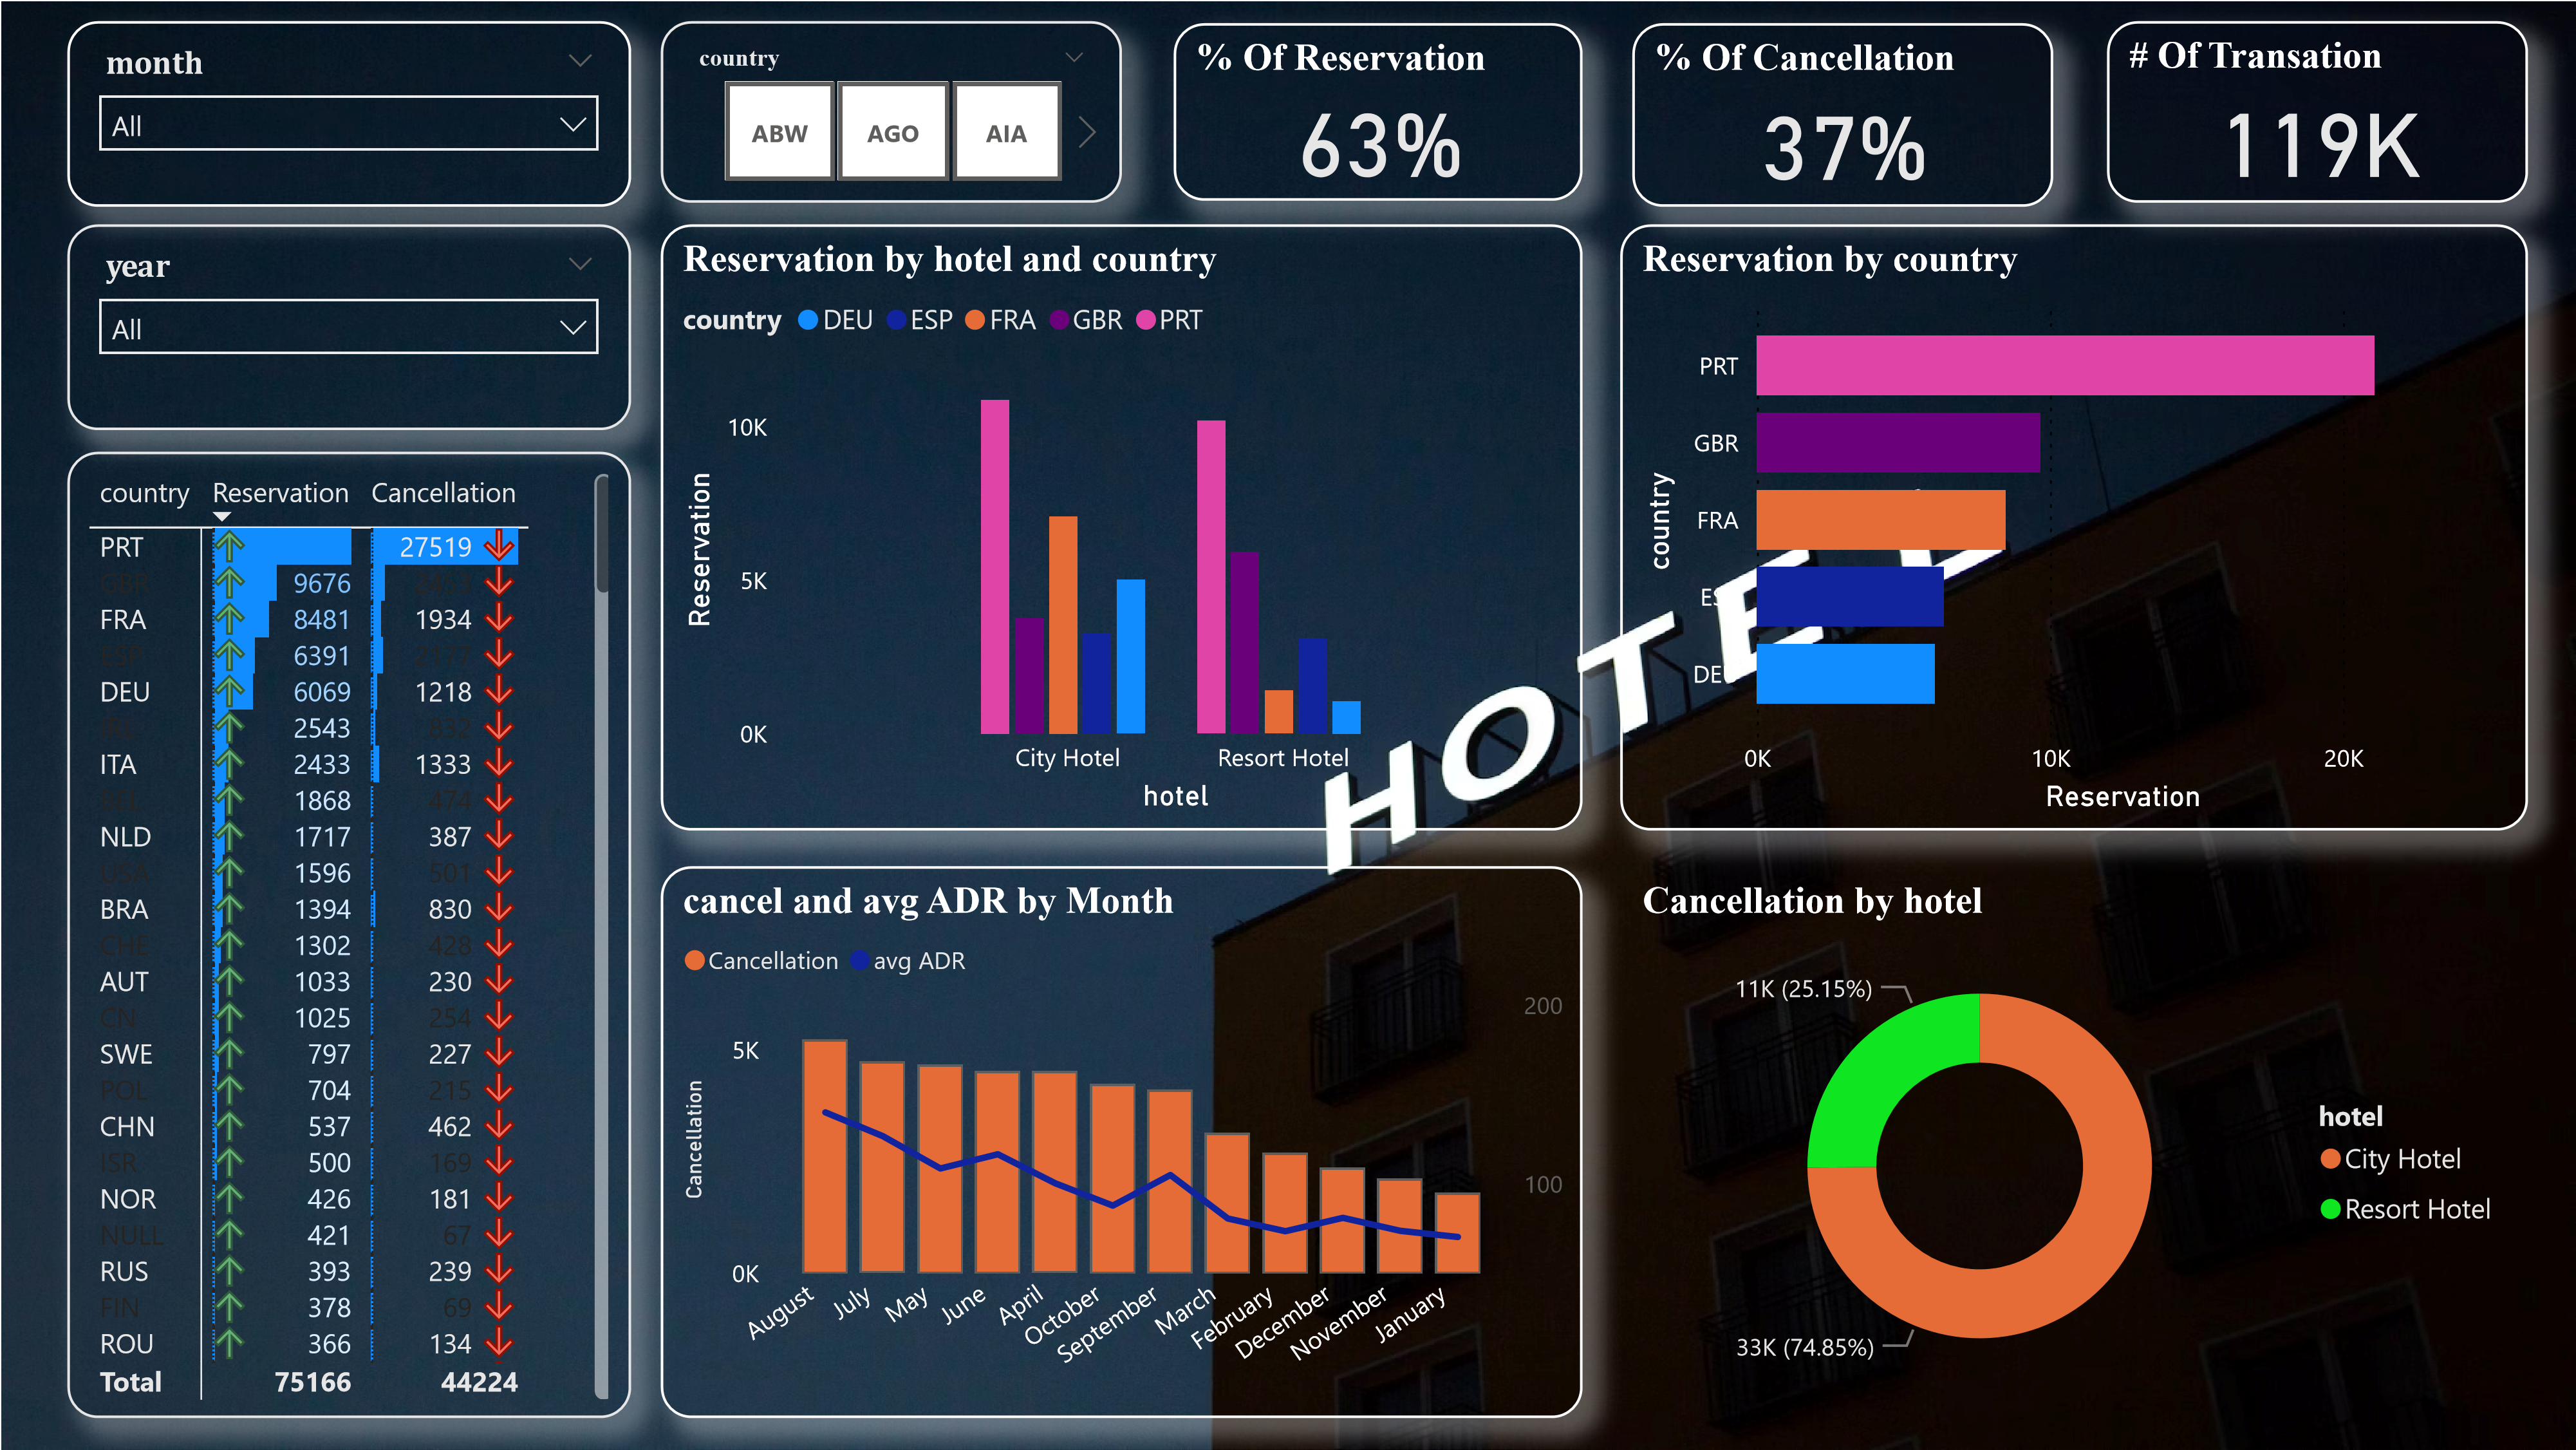

The dashboard page shown, as its layout file describes it:
{"tool":"powerbi","page":{"name":"Hotel Details","canvas":[1280,720],"ordinal":1},"visuals":[{"type":"clusteredBarChart","fields":{"Category":["Hotel Bookings.country"],"Y":["Calculations.Reservation"]},"box":[805.5,111.1,450.1,300.5],"z":0},{"type":"donutChart","fields":{"Y":["Calculations.Cancellation"],"Category":["Hotel Bookings.hotel"]},"box":[805.5,429.5,450.1,274.4],"z":1000},{"type":"clusteredColumnChart","fields":{"Category":["Hotel Bookings.hotel"],"Y":["Calculations.Reservation"],"Series":["Hotel Bookings.country"]},"box":[328,111.1,458.3,300.5],"z":2000},{"type":"slicer","fields":{"Values":["Hotel Bookings.arrival_date_month"]},"box":[32.9,9.6,279.9,91.9],"z":3000},{"type":"slicer","fields":{"Values":["Hotel Bookings.arrival_date_year"]},"box":[32.9,111.1,279.9,101.5],"z":4000},{"type":"slicer","fields":{"Values":["Hotel Bookings.country"]},"box":[328,9.6,229.2,90.6],"z":5000},{"type":"pivotTable","fields":{"Rows":["Hotel Bookings.country"],"Values":["Calculations.Reservation","Calculations.Cancellation"]},"box":[32.9,223.7,279.9,480.3],"z":6000},{"type":"card","title":"% Of Reservation","fields":{"Values":["Calculations.% of not_cancellation"]},"box":[583.2,11,203.1,87.8],"z":7000},{"type":"card","title":"% Of Cancellation","fields":{"Values":["Calculations.% of canceltion"]},"box":[811,11,208.6,90.6],"z":8000},{"type":"lineStackedColumnComboChart","title":"cancel and avg ADR by Month","fields":{"Category":["Hotel Bookings.arrival_date_month"],"Y2":["Calculations.avg ADR"],"Y":["Calculations.Cancellation"]},"box":[328,429.5,458.3,274.4],"z":9000},{"type":"card","title":"# Of Transation","fields":{"Values":["Calculations.# of transation"]},"box":[1047,9.6,208.6,90.6],"z":10000}]}

Visuals, with their boxes in screenshot pixels (x1, y1, x2, y2), scaled from the page's 1280x720 canvas onto the 2576x1450 screenshot:
clusteredBarChart - Hotel Bookings.country x Calculations.Reservation: detection(1621, 223, 2527, 829)
donutChart - Calculations.Cancellation x Hotel Bookings.hotel: detection(1621, 865, 2527, 1418)
clusteredColumnChart - Hotel Bookings.hotel x Calculations.Reservation: detection(660, 223, 1582, 829)
slicer - Hotel Bookings.arrival_date_month: detection(66, 19, 630, 204)
slicer - Hotel Bookings.arrival_date_year: detection(66, 223, 630, 428)
slicer - Hotel Bookings.country: detection(660, 19, 1121, 202)
pivotTable - Hotel Bookings.country x Calculations.Reservation: detection(66, 451, 630, 1418)
"% Of Reservation" card: detection(1173, 22, 1582, 199)
"% Of Cancellation" card: detection(1632, 22, 2052, 205)
"cancel and avg ADR by Month" lineStackedColumnComboChart: detection(660, 865, 1582, 1418)
"# Of Transation" card: detection(2107, 19, 2527, 202)
